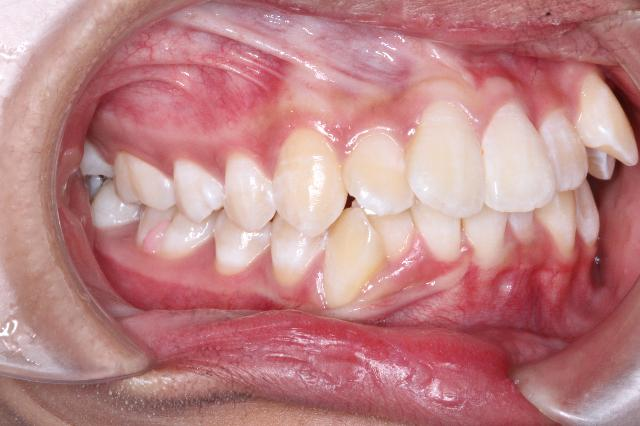canine class III 1/4: (262, 121, 386, 312)
molar class III 1/4: (111, 145, 216, 259)
